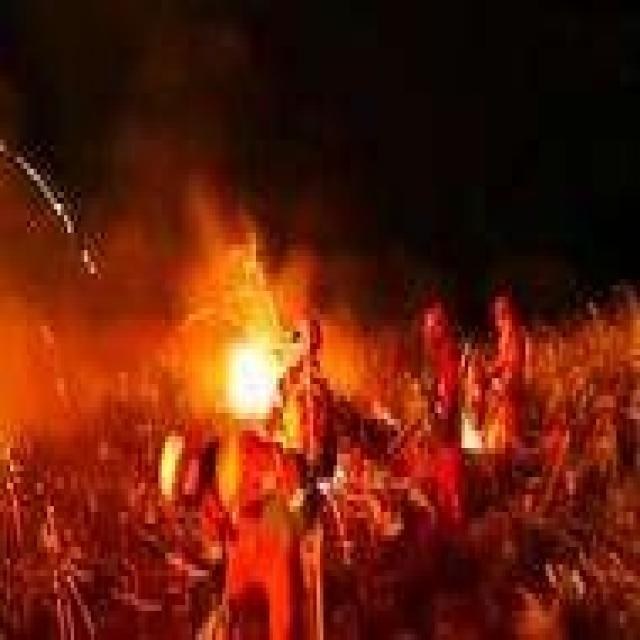fire: (189, 256, 283, 419)
